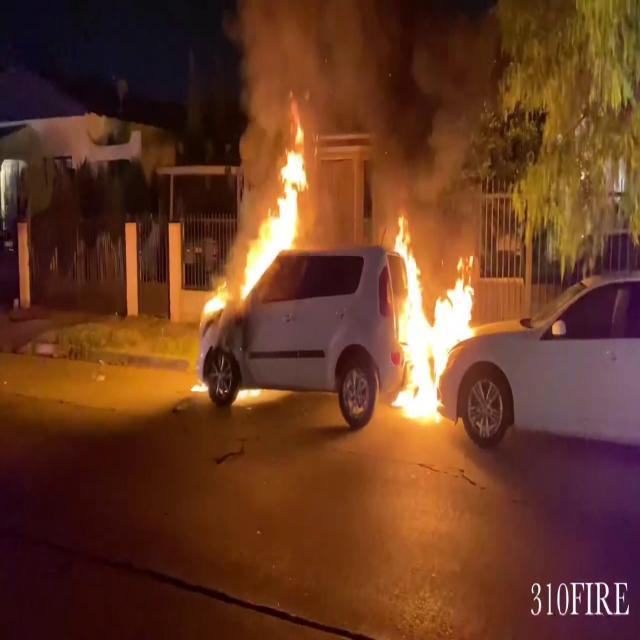Fire: (386, 209, 481, 423), (240, 111, 320, 301)
Smoke: (218, 0, 496, 198)
